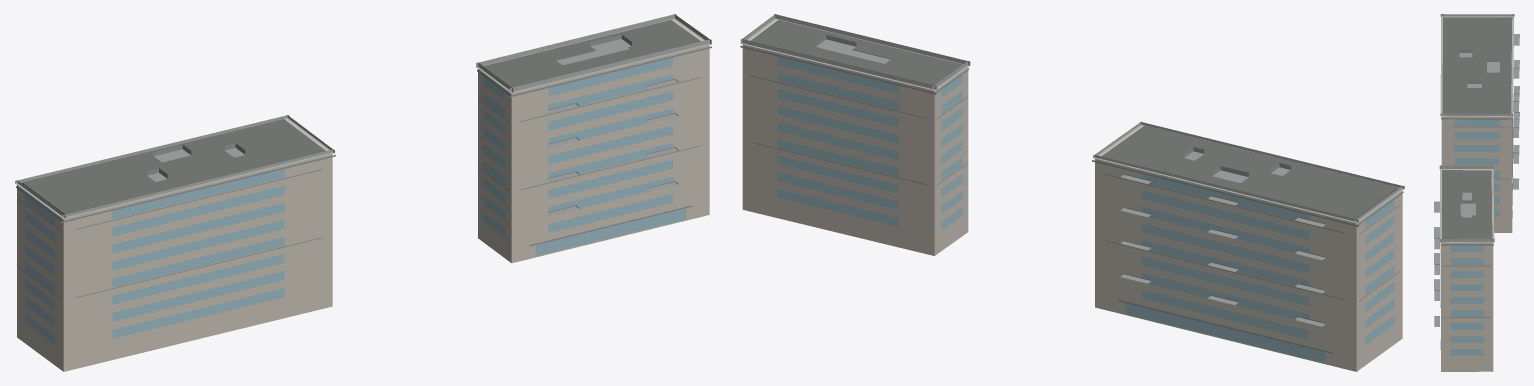
Rendered from tile-p002-m004.glb.
3 renders of one model, left to right at view 1: azimuth 30°, elevation 25°; view 2: azimuth 150°, elevation 25°; view 3: azimuth 270°, elevation 25°, orthographic. The views are drawn at different scales.
Parts seen in each view (by area): view 1: building-1039-mesh-0, building-1122-mesh-7, building-1039-mesh-1, building-1122-mesh-8, building-1039-mesh-4, building-1122-mesh-11, building-1122-mesh-12, building-1039-mesh-5, building-1039-mesh-2, building-1122-mesh-9, building-1122-mesh-10, building-1122-mesh-13 (+1 smaller); view 2: building-1039-mesh-0, building-1122-mesh-7, building-1039-mesh-1, building-1122-mesh-8, building-1039-mesh-4, building-1122-mesh-11, building-1122-mesh-12, building-1039-mesh-5, building-1039-mesh-2, building-1039-mesh-3, building-1122-mesh-9, building-1039-mesh-6 (+1 smaller); view 3: building-1039-mesh-4, building-1122-mesh-7, building-1039-mesh-0, building-1122-mesh-11, building-1122-mesh-8, building-1039-mesh-1, building-1039-mesh-5, building-1122-mesh-12, building-1039-mesh-3, building-1122-mesh-10, building-1039-mesh-6, building-1122-mesh-13 (+2 smaller).
Part boxes in pixels (x1,y1,x2,y2): building-1039-mesh-0: [17, 119, 332, 371]; building-1122-mesh-7: [478, 20, 709, 263]; building-1039-mesh-1: [25, 169, 284, 344]; building-1122-mesh-8: [483, 57, 686, 256]; building-1039-mesh-4: [21, 119, 325, 214]; building-1122-mesh-11: [483, 20, 700, 87]; building-1122-mesh-12: [476, 14, 711, 93]; building-1039-mesh-5: [15, 115, 334, 219]; building-1039-mesh-2: [16, 155, 335, 298]; building-1122-mesh-9: [477, 46, 711, 246]; building-1122-mesh-10: [547, 79, 678, 215]; building-1122-mesh-13: [556, 34, 631, 65]; building-1039-mesh-0: [1095, 126, 1402, 371]; building-1122-mesh-7: [742, 20, 968, 255]; building-1039-mesh-1: [1126, 174, 1394, 362]; building-1122-mesh-8: [777, 56, 962, 230]; building-1039-mesh-4: [1101, 125, 1397, 218]; building-1122-mesh-11: [751, 20, 962, 84]; building-1122-mesh-12: [740, 14, 970, 90]; building-1039-mesh-5: [1093, 121, 1404, 223]; building-1039-mesh-2: [1092, 160, 1403, 353]; building-1039-mesh-3: [1120, 174, 1325, 326]; building-1122-mesh-9: [740, 46, 969, 185]; building-1039-mesh-6: [1184, 147, 1290, 183]; building-1039-mesh-4: [1442, 17, 1512, 113]; building-1122-mesh-7: [1440, 169, 1493, 371]; building-1039-mesh-0: [1441, 17, 1513, 232]; building-1122-mesh-11: [1442, 170, 1492, 238]; building-1122-mesh-8: [1440, 245, 1483, 355]; building-1039-mesh-1: [1454, 113, 1513, 218]; building-1039-mesh-5: [1440, 14, 1514, 116]; building-1122-mesh-12: [1439, 165, 1494, 242]; building-1039-mesh-3: [1513, 34, 1519, 189]; building-1122-mesh-10: [1434, 201, 1439, 326]; building-1039-mesh-6: [1459, 49, 1499, 87]; building-1122-mesh-13: [1460, 192, 1475, 217].
Bounding box in the file's own units: 134 × 35.25 × 20.11.
